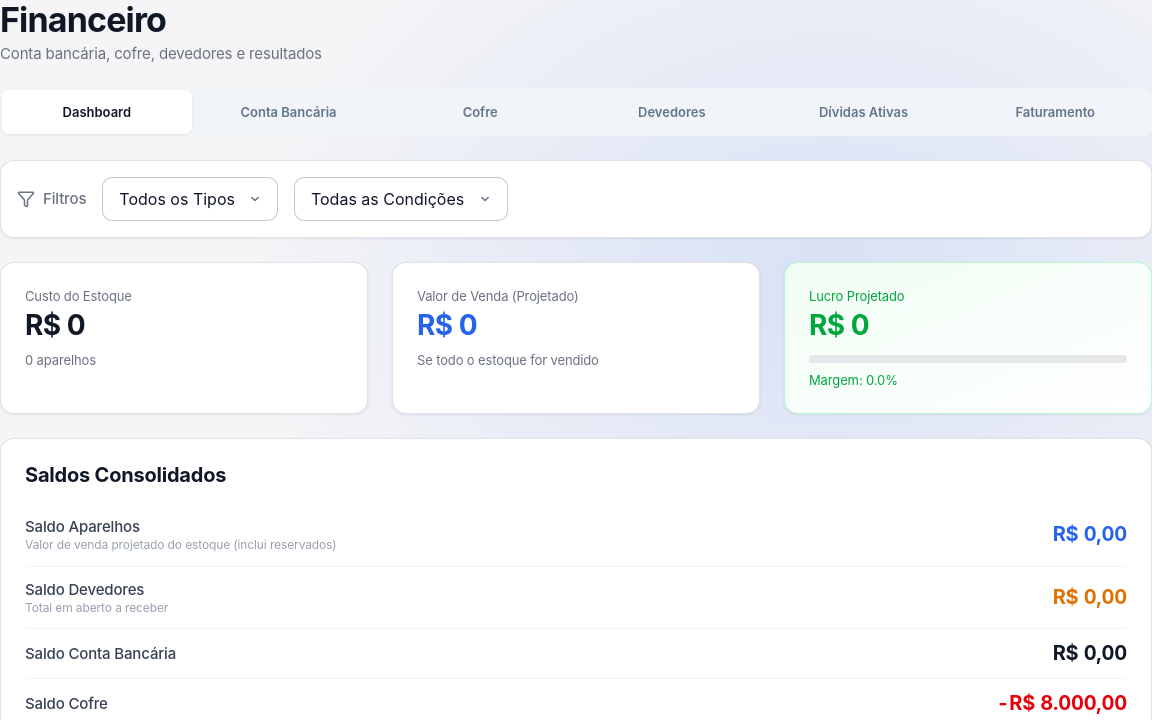
Test: Finance account integrity guards › counts internal transfers so the cards match the statement below them
The image size is (1152, 720).
What coordinates should you click on to do the following:
click the button with test id "finance-tab-safe"
I would click on:
 (480, 112)
Its box is x1=385 y1=90 x2=575 y2=134.
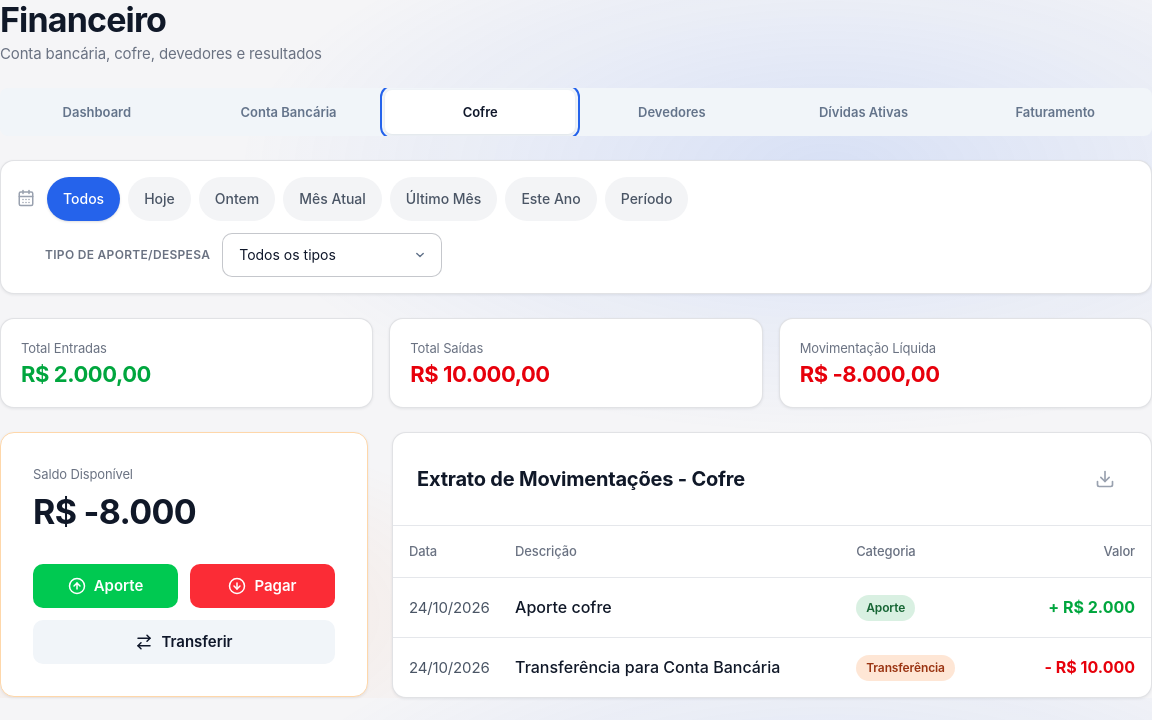
Expected: the text "R$ 2.000,00" is shown, x1=21 y1=361 x2=151 y2=387
Expected: the text "R$ 10.000,00" is shown, x1=410 y1=361 x2=550 y2=387
Expected: the text "Movimentação Líquida" is shown, x1=800 y1=340 x2=936 y2=356
